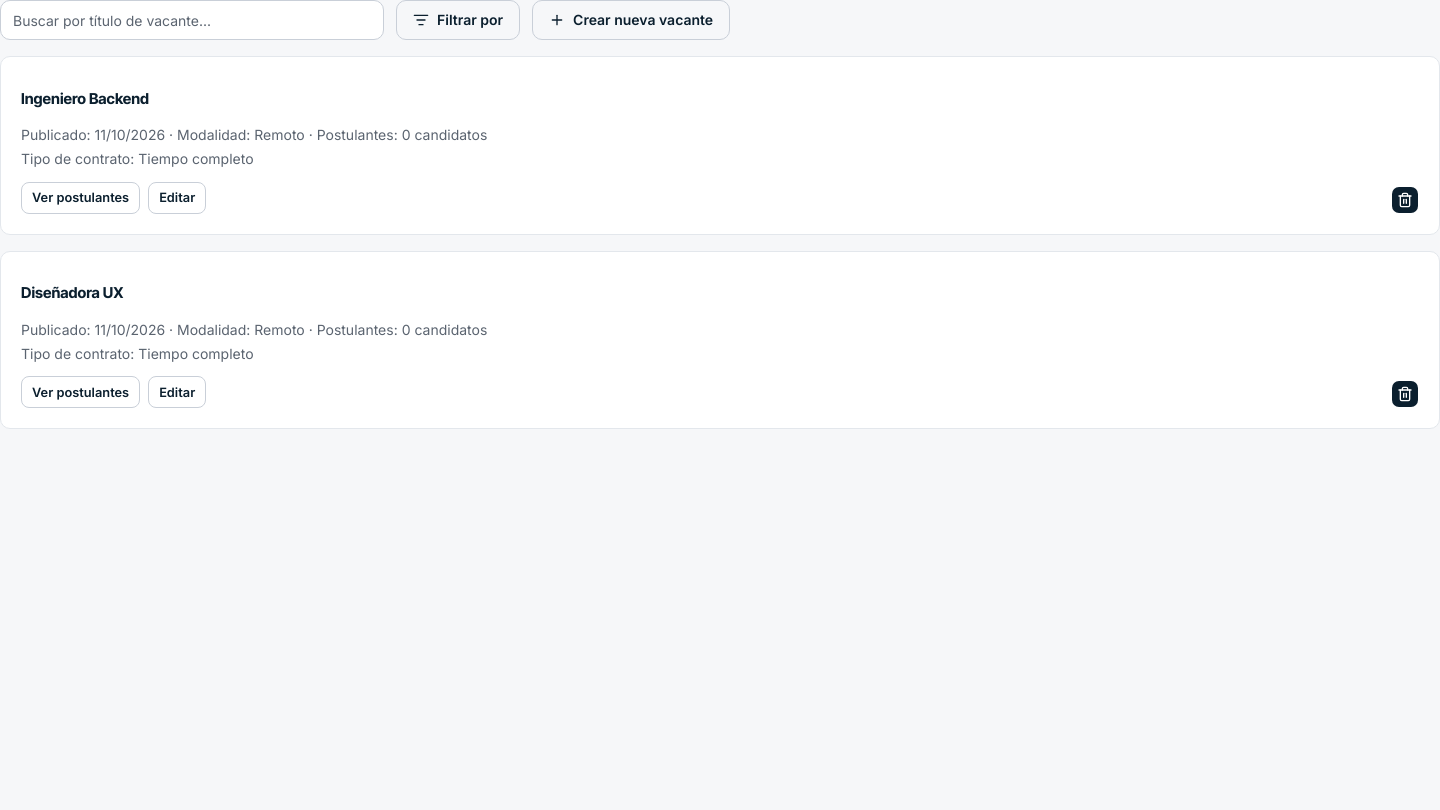
Test: VacancyList en el portal de empresa › elimina la vacante, cierra el modal, avisa y refresca la lista
Click the button named "Eliminar vacante Ingeniero Backend". click: (1405, 200)
box: [1391,186,1419,214]
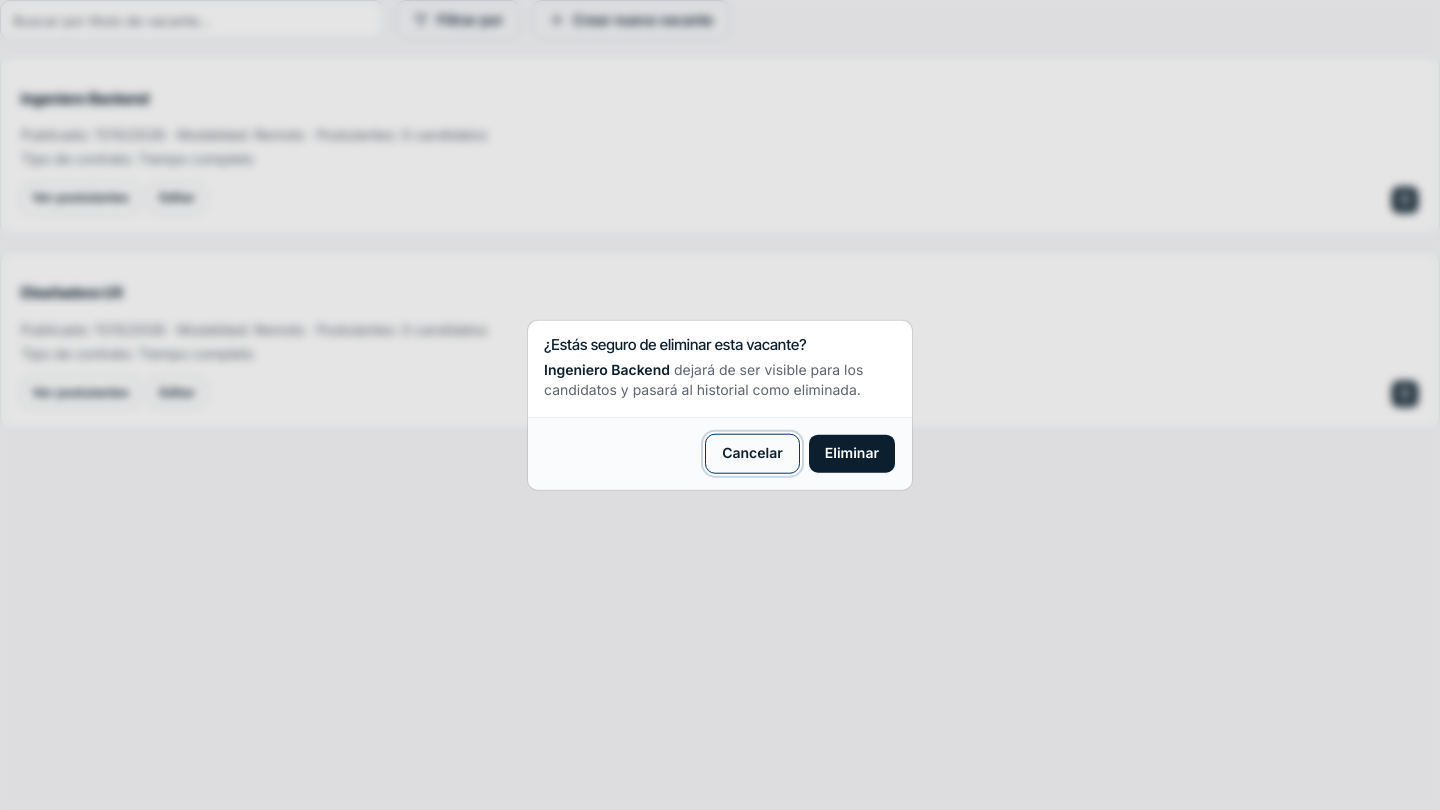
Click the button "Eliminar". click: (852, 453)
box: [808,433,896,473]
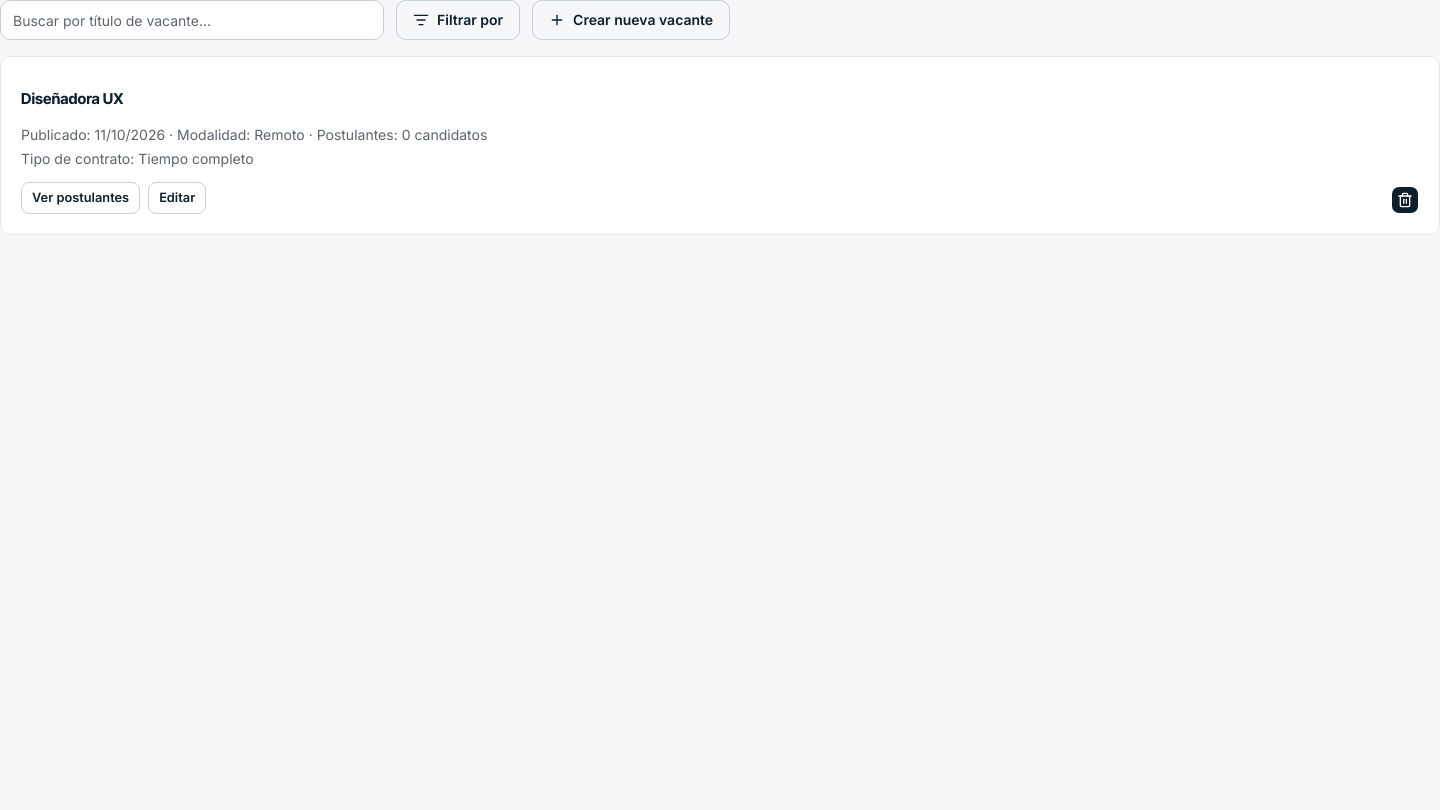
Expected: the dialog is gone
Expected: the button "Ingeniero Backend" is gone
